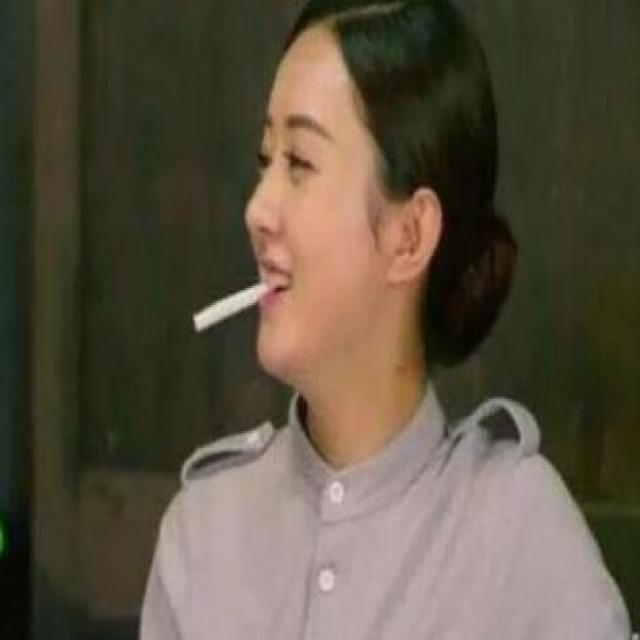cigarette: (185, 280, 279, 336)
